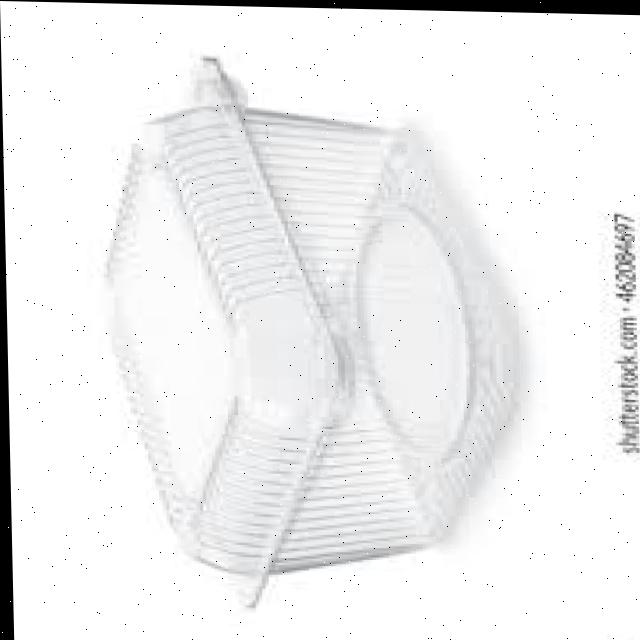disposable: (73, 67, 534, 597)
